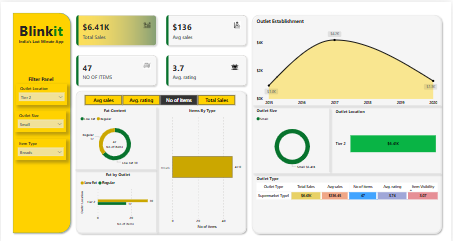

Layout of this report page (visuals, bound fields, positions):
{"tool":"powerbi","page":{"name":"Page 1","canvas":[1500,810],"ordinal":0},"visuals":[{"type":"shape","box":[28.3,26.7,211.7,753.3],"z":0},{"type":"textbox","box":[49.2,56.7,165.8,76.7],"z":1000},{"type":"textbox","box":[44.2,117.5,180,31.7],"z":2000},{"type":"cardVisual","fields":{"Data":["BlinkIT Grocery Data.TOTAL SALES","BlinkIT Grocery Data.AVG SALES","BlinkIT Grocery Data.NUMBER OF ITEMS","BlinkIT Grocery Data.AVERAGE RATING"]},"box":[231.8,26.4,602.7,271.8],"z":3000},{"type":"shape","box":[240,285.6,586.7,494.4],"z":4000},{"type":"slicer","fields":{"Values":["Metrics.Metrics"]},"box":[253.3,302.2,551.1,40],"z":5000},{"type":"donutChart","title":"Fat-Content","fields":{"Y":["BlinkIT Grocery Data.Avg sales"],"Category":["BlinkIT Grocery Data.Item Fat Content"]},"box":[260,352.2,238.9,196.7],"z":6000},{"type":"cardVisual","fields":{"Data":["BlinkIT Grocery Data.Avg sales"]},"box":[326.4,439.1,104.5,66.4],"z":7000},{"type":"clusteredBarChart","title":"Fat by Outlet","fields":{"Y":["BlinkIT Grocery Data.Avg sales"],"Category":["BlinkIT Grocery Data.Outlet Location Type"],"Series":["BlinkIT Grocery Data.Item Fat Content"]},"box":[260,567.8,258.9,184.4],"z":8000},{"type":"shape","box":[241.1,541.1,284.4,40],"z":9000},{"type":"shape","box":[472,342,93.3,432.7],"z":10000},{"type":"barChart","title":"Items By Type","fields":{"Y":["BlinkIT Grocery Data.Avg sales"],"Category":["BlinkIT Grocery Data.Item Type"]},"box":[526.4,351.8,288.2,408.2],"z":11000},{"type":"shape","box":[826.7,31.7,651.7,748.3],"z":12000},{"type":"lineChart","title":"Outlet Establishment","fields":{"Category":["BlinkIT Grocery Data.Outlet Establishment Year"],"Y":["BlinkIT Grocery Data.Total Sales"]},"box":[846.7,51.7,613.3,300],"z":13000},{"type":"donutChart","title":"Outlet Size","fields":{"Category":["BlinkIT Grocery Data.Outlet Size"],"Y":["BlinkIT Grocery Data.Total Sales"]},"box":[847.1,354.3,248.6,212.9],"z":14000},{"type":"shape","box":[832,327,642,40],"z":15000},{"type":"funnel","title":"Outlet Location","fields":{"Category":["BlinkIT Grocery Data.Outlet Location Type"],"Y":["BlinkIT Grocery Data.Total Sales"]},"box":[1110,357.1,350,214.3],"z":16000},{"type":"pivotTable","title":"Outlet Type","fields":{"Rows":["BlinkIT Grocery Data.Outlet Type"],"Values":["BlinkIT Grocery Data.Total Sales","BlinkIT Grocery Data.Avg sales","BlinkIT Grocery Data.No of items","BlinkIT Grocery Data.Avg. rating","Sum(BlinkIT Grocery Data.Item Visibility)"]},"box":[845.6,581.1,614.4,193.3],"z":17000},{"type":"shape","box":[832.2,553.3,642.2,40],"z":18000},{"type":"shape","box":[1049,348,93,229],"z":19000},{"type":"slicer","fields":{"Values":["BlinkIT Grocery Data.Outlet Location Type"]},"box":[48.6,272.9,171.4,70],"z":20000},{"type":"slicer","fields":{"Values":["BlinkIT Grocery Data.Outlet Size"]},"box":[45.7,364.3,171.4,70],"z":21000},{"type":"slicer","fields":{"Values":["BlinkIT Grocery Data.Item Type"]},"box":[45.7,455.7,171.4,70],"z":22000},{"type":"textbox","box":[21.4,238.6,225.7,34.3],"z":23000}]}

Visuals, with their boxes in screenshot pixels (x1, y1, x2, y2), scaled from the page's 1500x810 canvas onto the 453x241 screenshot:
shape: box=[9, 8, 72, 232]
textbox: box=[15, 17, 65, 40]
textbox: box=[13, 35, 68, 44]
cardVisual - BlinkIT Grocery Data.TOTAL SALES x BlinkIT Grocery Data.AVG SALES: box=[70, 8, 252, 89]
shape: box=[72, 85, 250, 232]
slicer - Metrics.Metrics: box=[76, 90, 243, 102]
"Fat-Content" donutChart: box=[79, 105, 151, 163]
cardVisual - BlinkIT Grocery Data.Avg sales: box=[99, 131, 130, 150]
"Fat by Outlet" clusteredBarChart: box=[79, 169, 157, 224]
shape: box=[73, 161, 159, 173]
shape: box=[143, 102, 171, 230]
"Items By Type" barChart: box=[159, 105, 246, 226]
shape: box=[250, 9, 446, 232]
"Outlet Establishment" lineChart: box=[256, 15, 441, 105]
"Outlet Size" donutChart: box=[256, 105, 331, 169]
shape: box=[251, 97, 445, 109]
"Outlet Location" funnel: box=[335, 106, 441, 170]
"Outlet Type" pivotTable: box=[255, 173, 441, 230]
shape: box=[251, 165, 445, 177]
shape: box=[317, 104, 345, 172]
slicer - BlinkIT Grocery Data.Outlet Location Type: box=[15, 81, 66, 102]
slicer - BlinkIT Grocery Data.Outlet Size: box=[14, 108, 66, 129]
slicer - BlinkIT Grocery Data.Item Type: box=[14, 136, 66, 156]
textbox: box=[6, 71, 75, 81]
